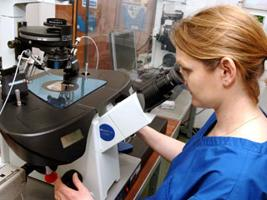person: (56, 6, 267, 200)
